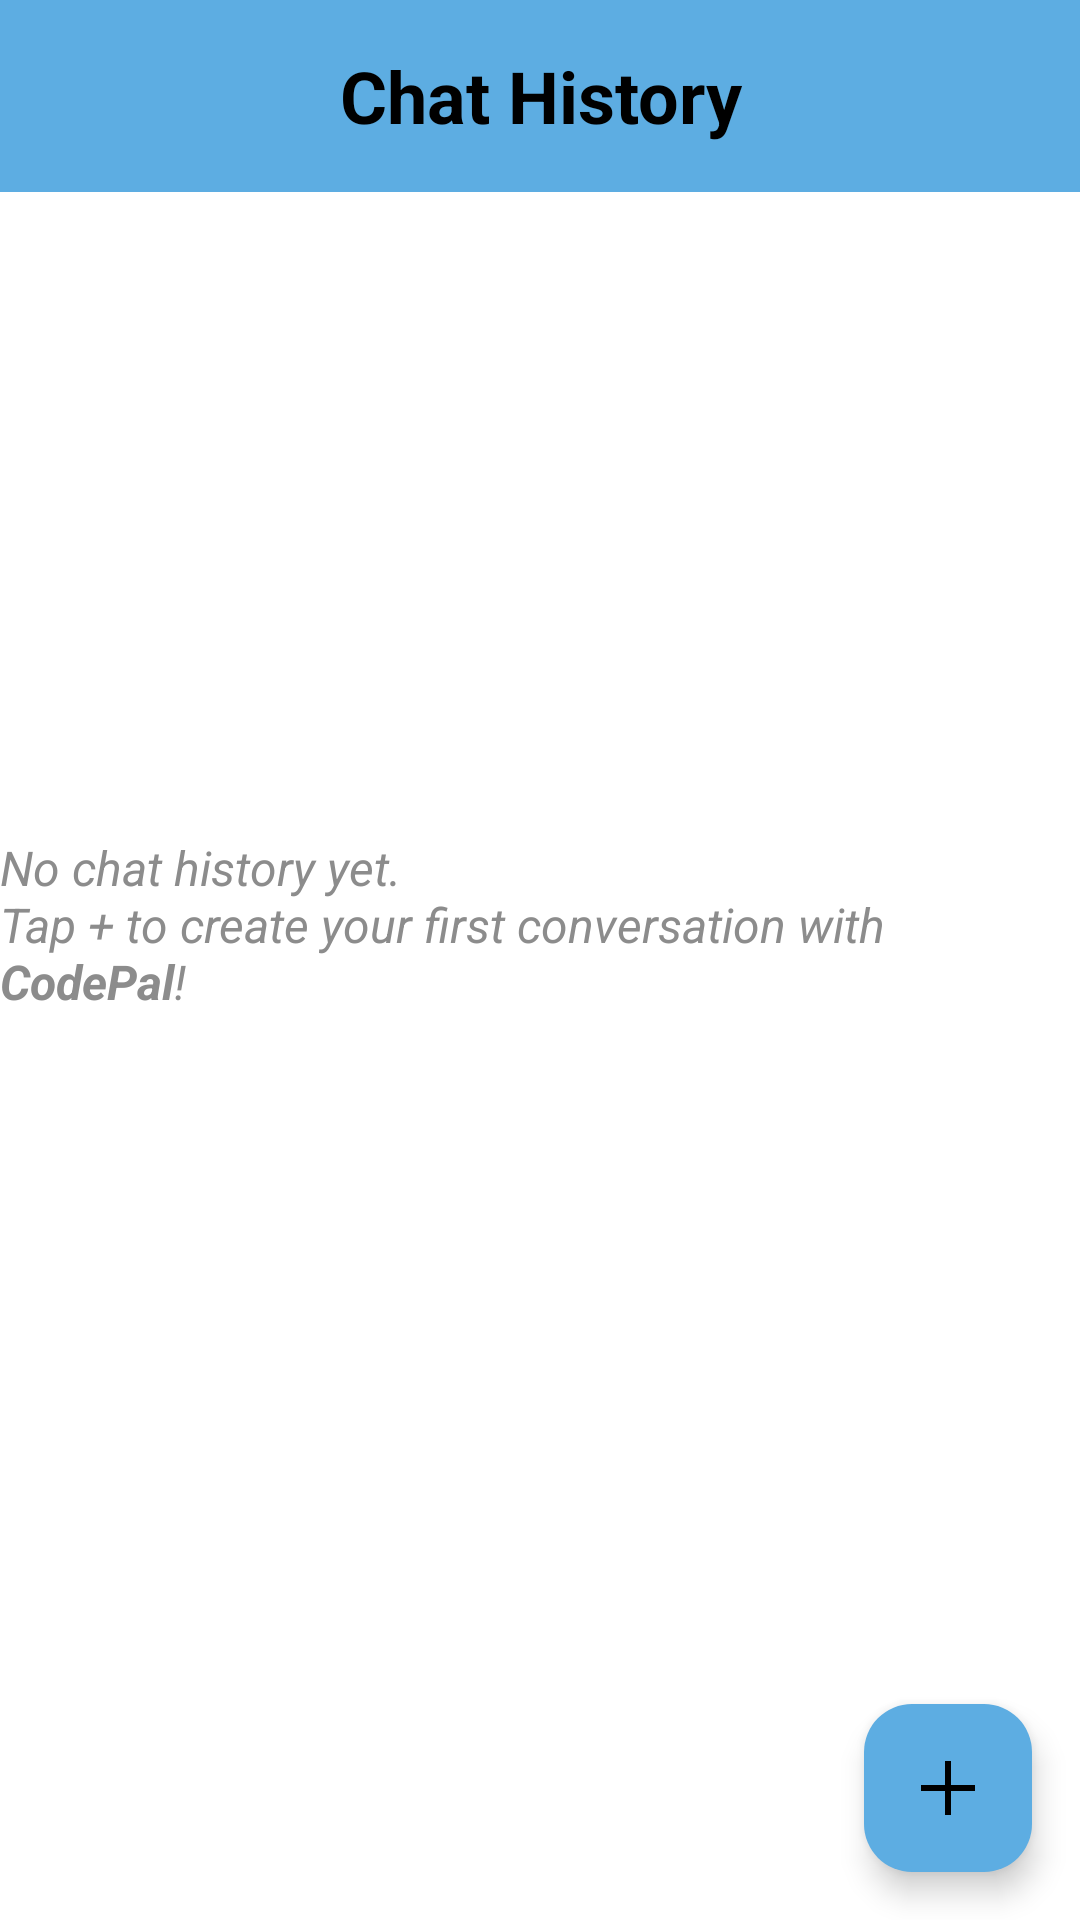

Locate icon controls on the screen. Image size 1080x1920, boxes as box=[x1, y1, x2, y2].
New Chat: box=[864, 1704, 1032, 1872]
